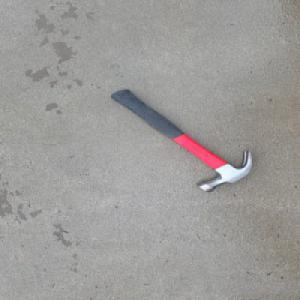Hammer: (109, 89, 254, 193)
